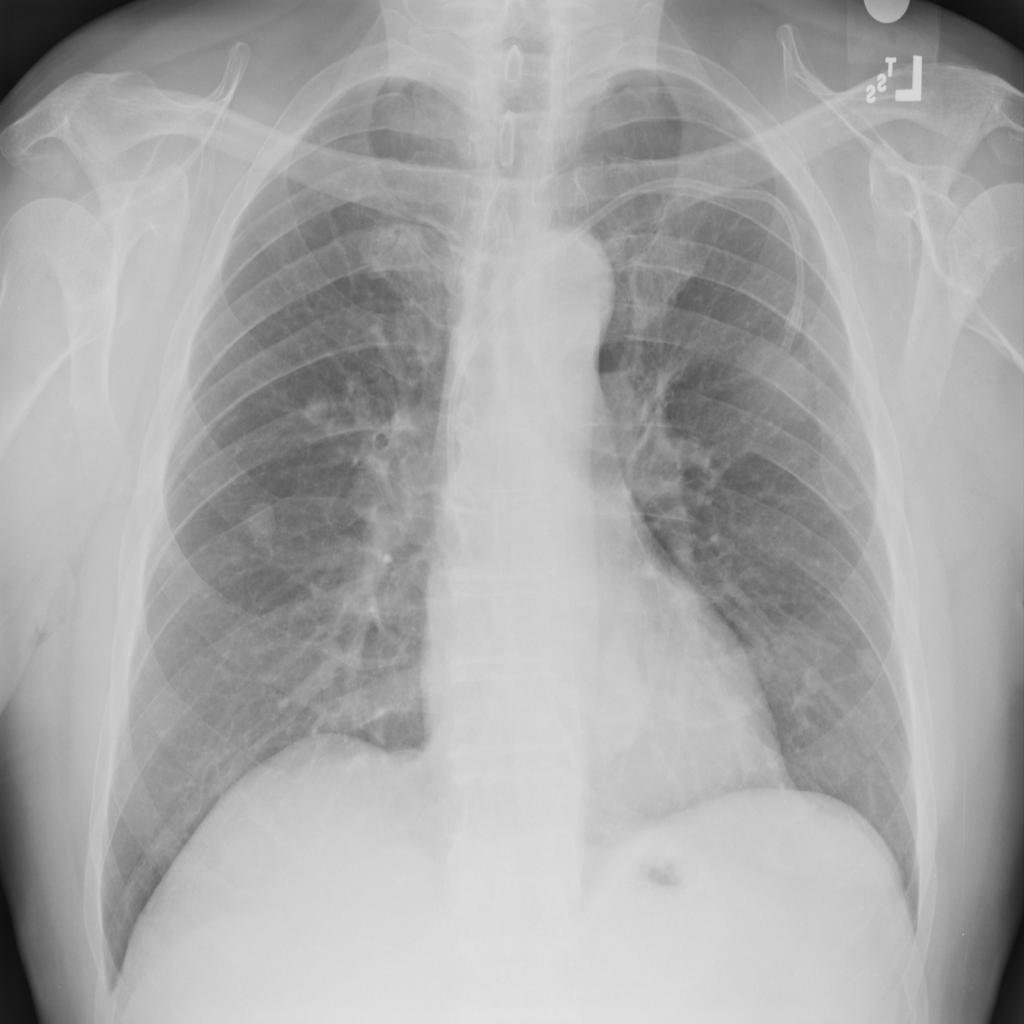nodule: (718, 354, 812, 449), (229, 484, 291, 560), (789, 652, 835, 708), (846, 632, 891, 689), (295, 380, 341, 435)
